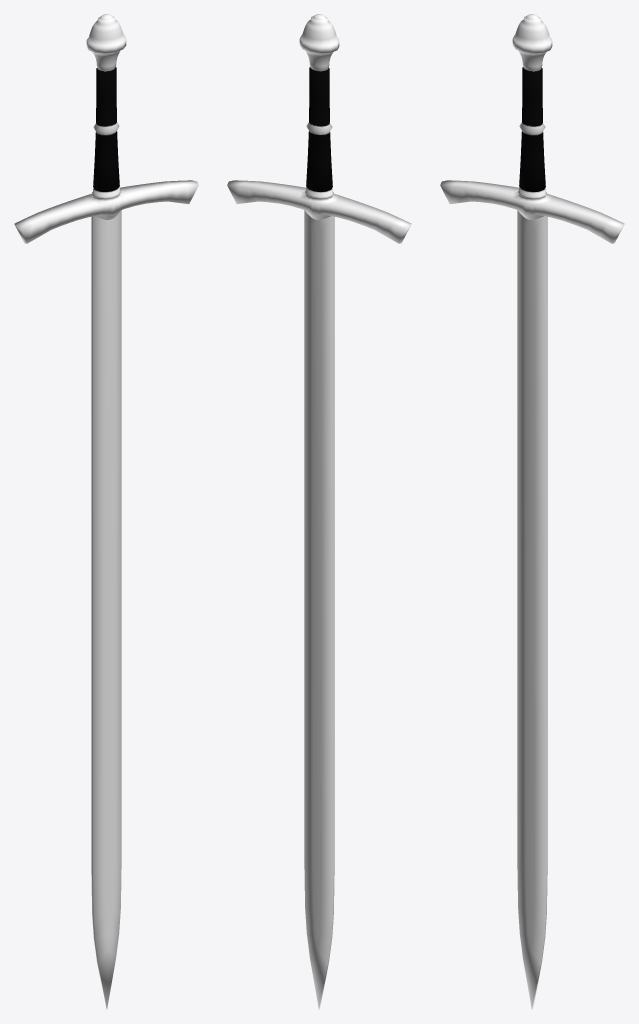
File: sword-armor.fbx
3 views of the same model, side by side, from view 1: azimuth 30°, elevation 25°; view 2: azimuth 150°, elevation 25°; view 3: azimuth 330°, elevation 25° (orthographic).
Visible parts, largest first — view 1: sword; view 2: sword; view 3: sword.
Boxes of the visible parts, left/top/right/bottom form: sword: left=14, top=14, right=198, bottom=1009; sword: left=227, top=14, right=411, bottom=1009; sword: left=440, top=14, right=624, bottom=1009.
Bounding box in the file's own units: 150 × 785 × 25.43.
